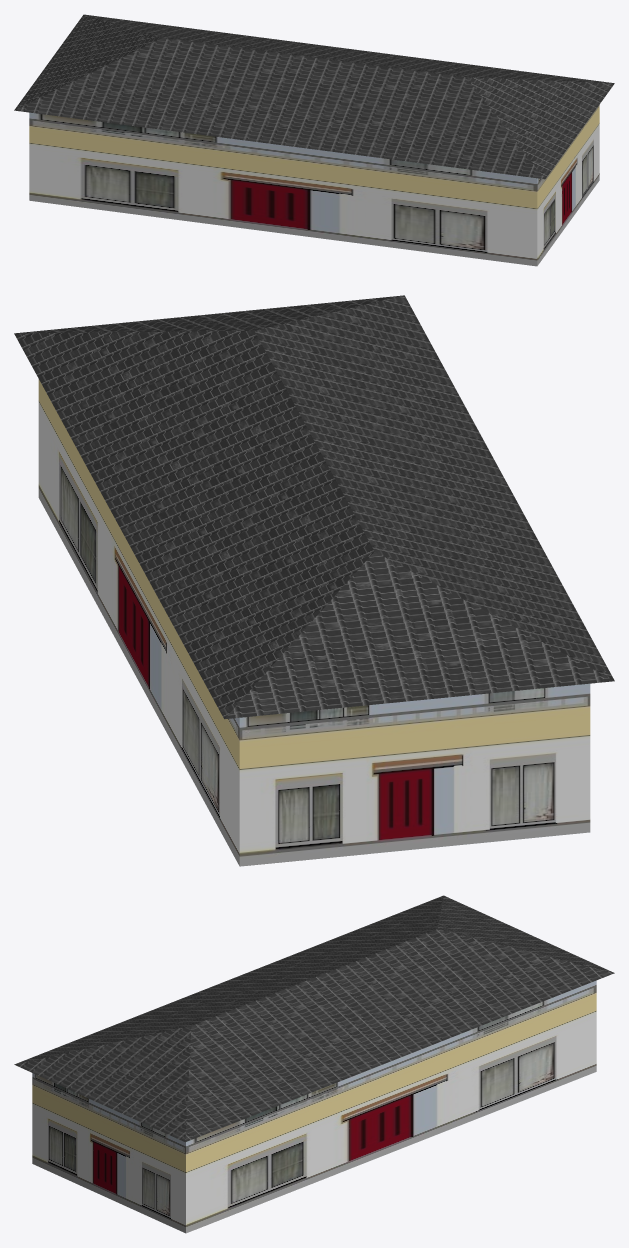
The picture shows the model from 3 angles, top to bottom: view 1: azimuth 30°, elevation 25°; view 2: azimuth 150°, elevation 25°; view 3: azimuth 270°, elevation 25°; orthographic projection. The views are drawn at different scales.
Visible parts, largest first — view 1: CityEngineMaterial_16_m, CityEngineMaterial_15_m; view 2: CityEngineMaterial_16_m, CityEngineMaterial_15_m; view 3: CityEngineMaterial_16_m, CityEngineMaterial_15_m.
Part boxes in pixels (x1,y1,x2,y2): CityEngineMaterial_16_m: [14, 14, 614, 179]; CityEngineMaterial_15_m: [29, 105, 599, 266]; CityEngineMaterial_16_m: [14, 295, 614, 719]; CityEngineMaterial_15_m: [38, 379, 590, 866]; CityEngineMaterial_16_m: [14, 895, 614, 1142]; CityEngineMaterial_15_m: [32, 980, 596, 1233].
Bounding box in the file's own units: 42.7 × 11.32 × 43.93.
